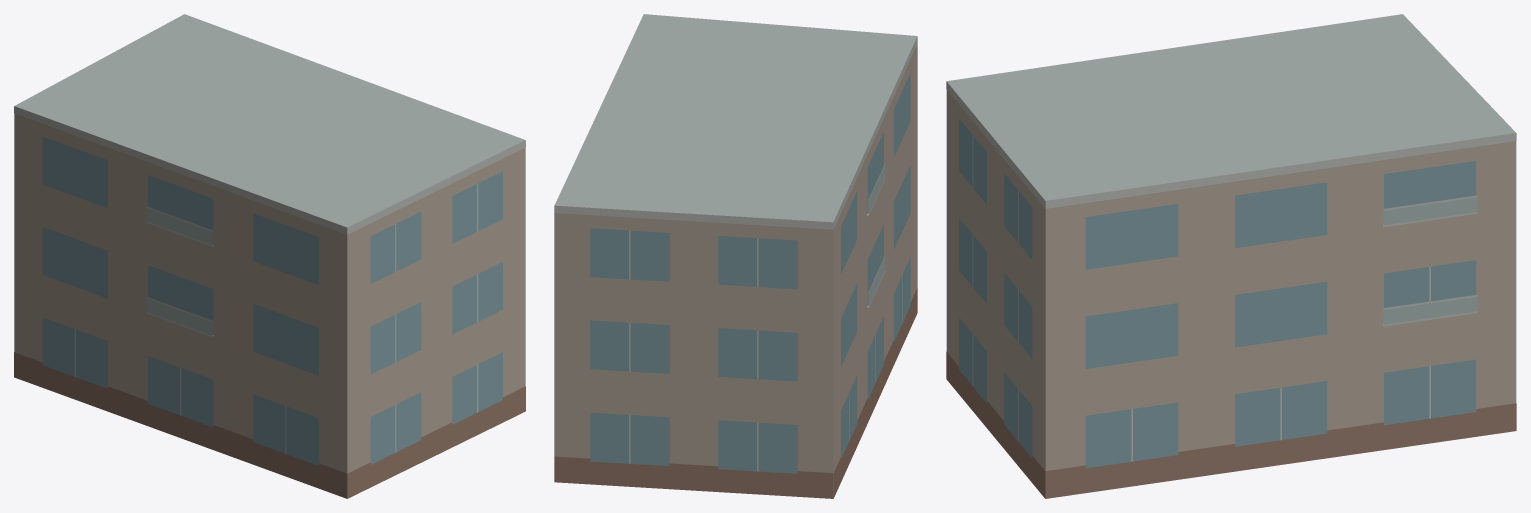
File: survey-upis-32821097.glb
The picture shows the model from 3 angles, left to right: view 1: azimuth 30°, elevation 25°; view 2: azimuth 150°, elevation 25°; view 3: azimuth 270°, elevation 25°; orthographic projection. The views are drawn at different scales.
Visible parts, largest first — view 1: survey-upis-32821097.tmp; view 2: survey-upis-32821097.tmp; view 3: survey-upis-32821097.tmp.
Boxes of the visible parts, x1,y1,x2,y2 form: survey-upis-32821097.tmp: [14, 14, 525, 498]; survey-upis-32821097.tmp: [554, 14, 917, 498]; survey-upis-32821097.tmp: [946, 14, 1516, 498].
Size of the model in its own units: 12.32 by 9.15 by 15.88.
